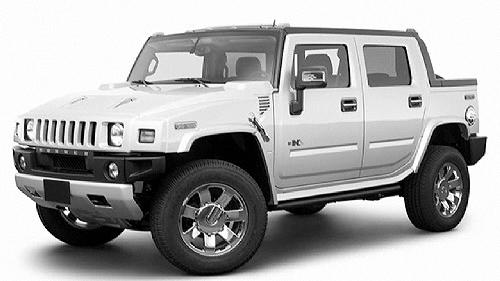car: (10, 22, 488, 280)
